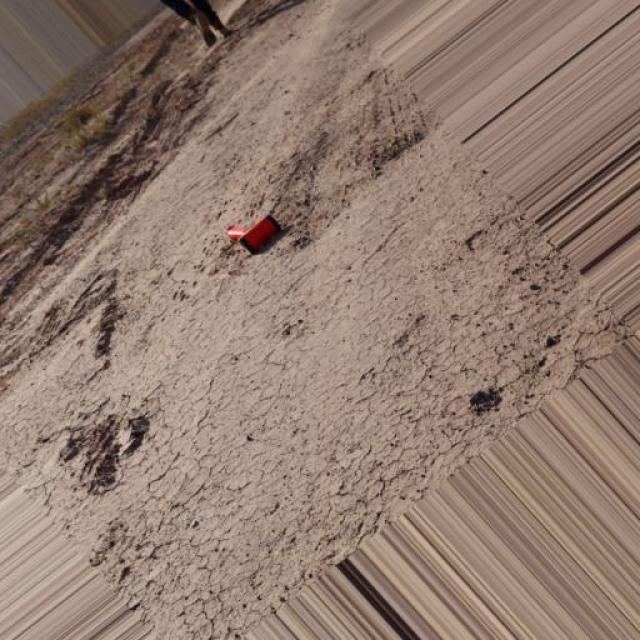mallet: (225, 212, 280, 254)
